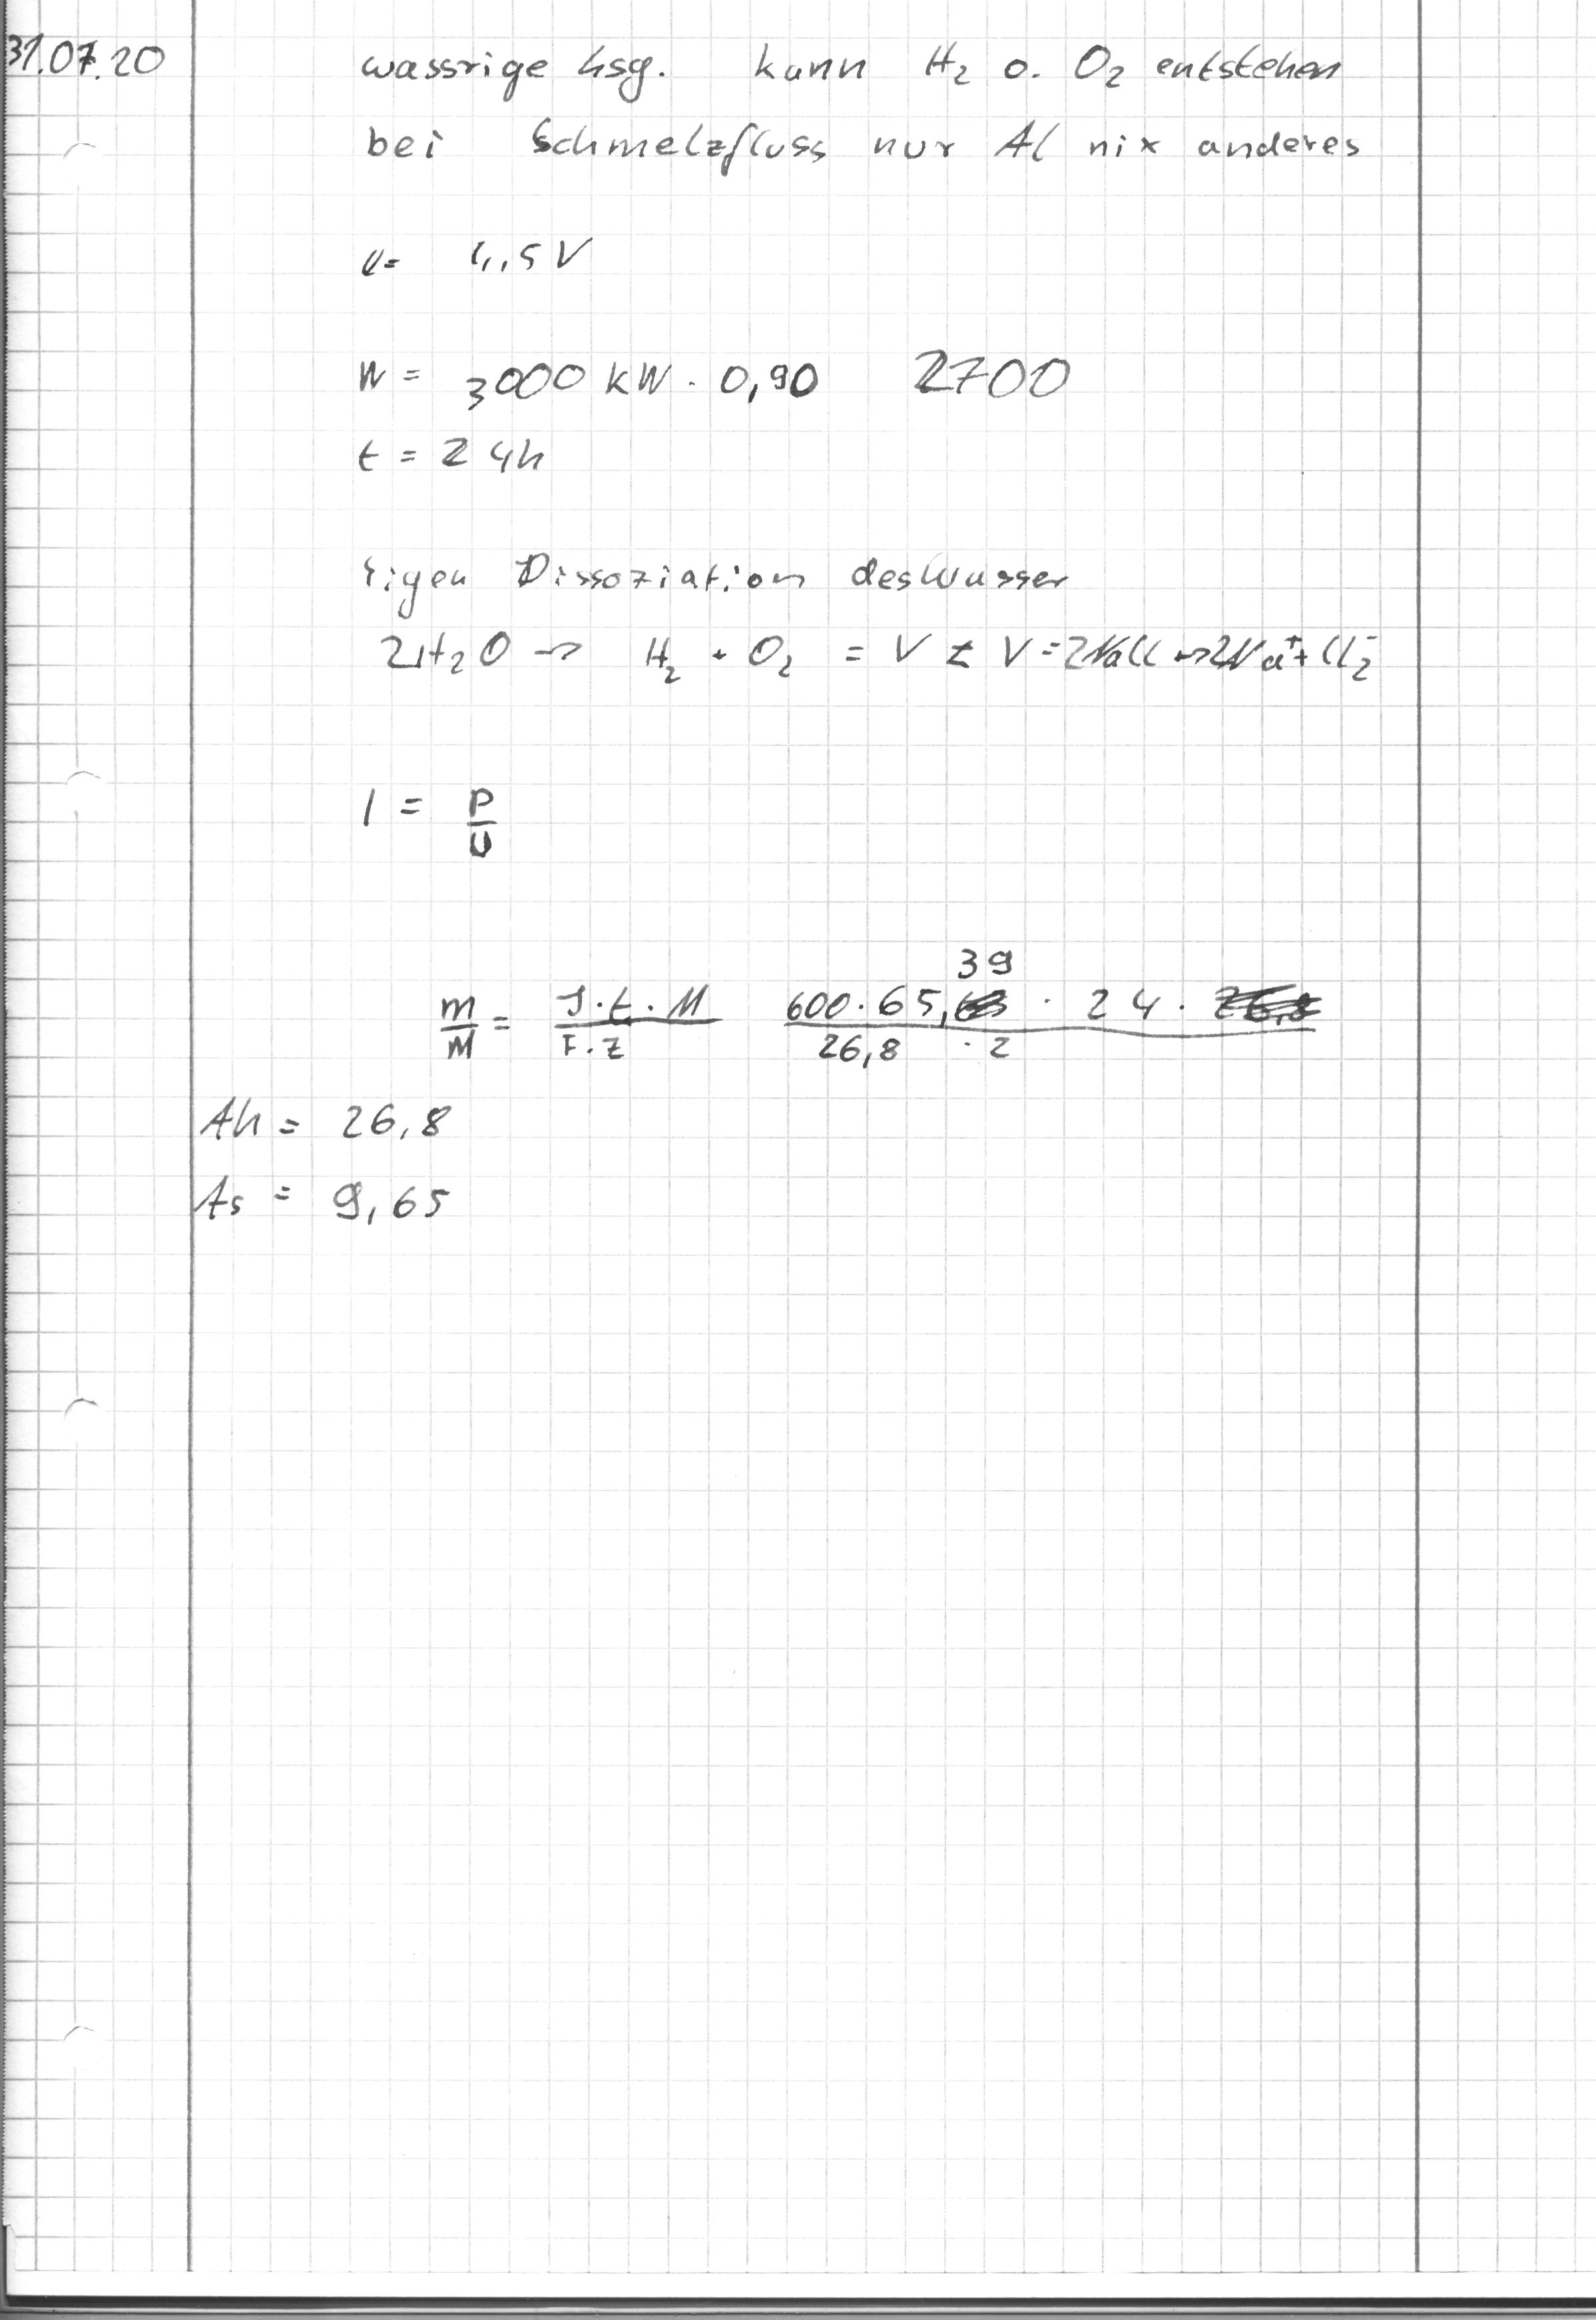word: (350, 545, 1384, 698), (350, 32, 1374, 179), (425, 942, 1337, 1077), (342, 346, 825, 484), (186, 1089, 489, 1231), (349, 211, 616, 300), (350, 760, 523, 876), (886, 324, 1087, 414)
